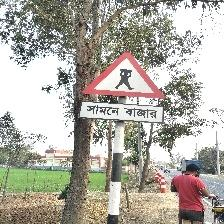Market-in-front: (80, 51, 166, 125)
